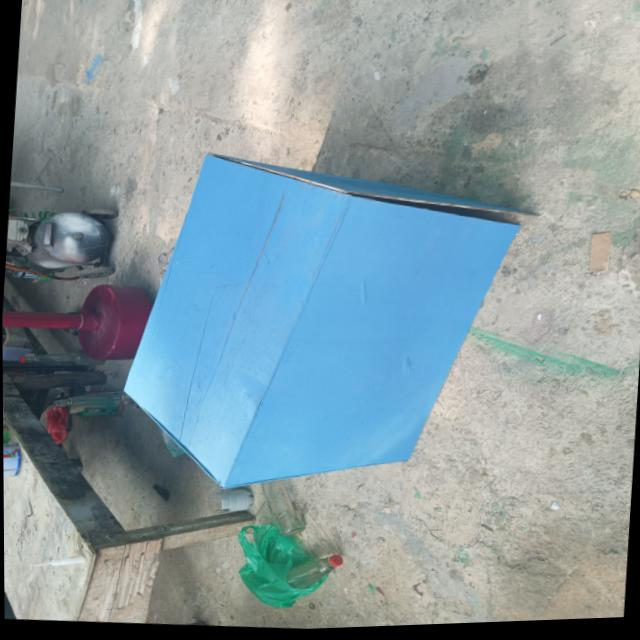blue_box: (105, 128, 550, 514)
